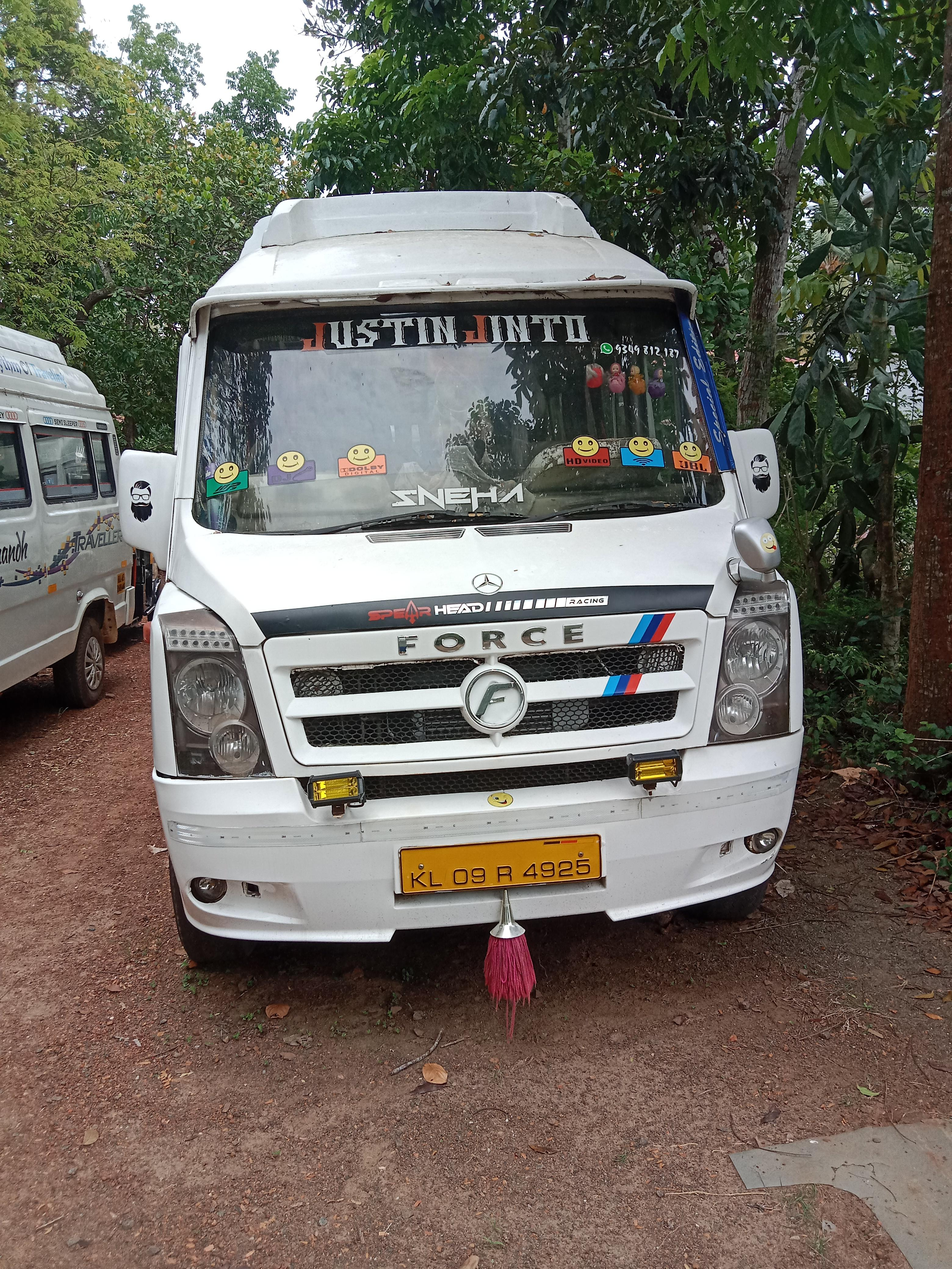Non-emergency: (123, 142, 860, 1057), (123, 274, 792, 1006)
